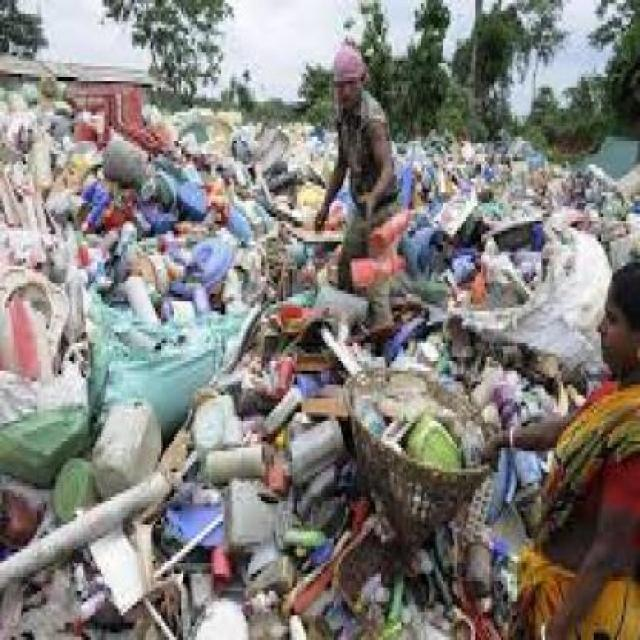garbage: (5, 69, 314, 636), (286, 248, 518, 636), (397, 134, 598, 376)
